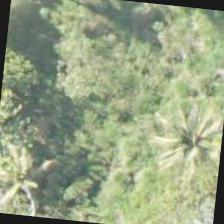Kelapa_Sawit: (139, 92, 223, 191), (0, 141, 69, 220)
